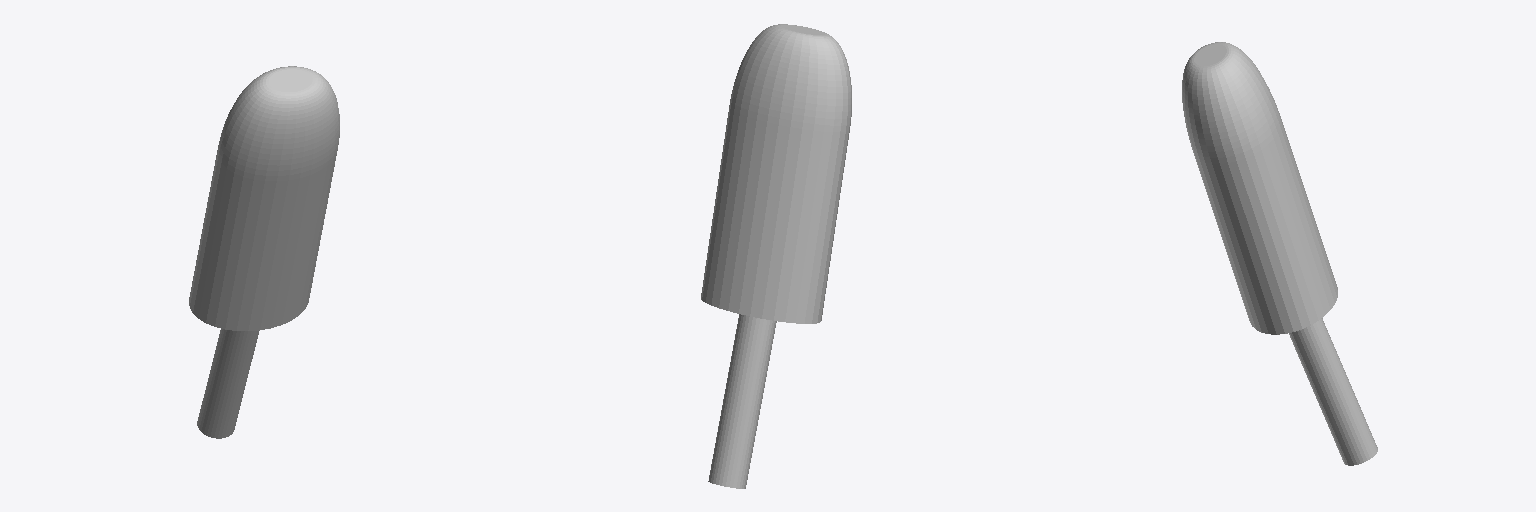
The model's file is brazo_sup_izq.obj.
The picture shows the model from 3 angles: view 1: azimuth 30°, elevation 25°; view 2: azimuth 150°, elevation 25°; view 3: azimuth 270°, elevation 25°; orthographic projection.
Parts seen in each view (by area): view 1: Cilindro.016_Cilindro.022; view 2: Cilindro.016_Cilindro.022; view 3: Cilindro.016_Cilindro.022.
Part boxes in pixels (left/top/right/bottom): Cilindro.016_Cilindro.022: left=189, top=66, right=339, bottom=438; Cilindro.016_Cilindro.022: left=701, top=24, right=851, bottom=488; Cilindro.016_Cilindro.022: left=1182, top=42, right=1377, bottom=465.
Size of the model in its own units: 0.0771 by 0.2695 by 0.1167.